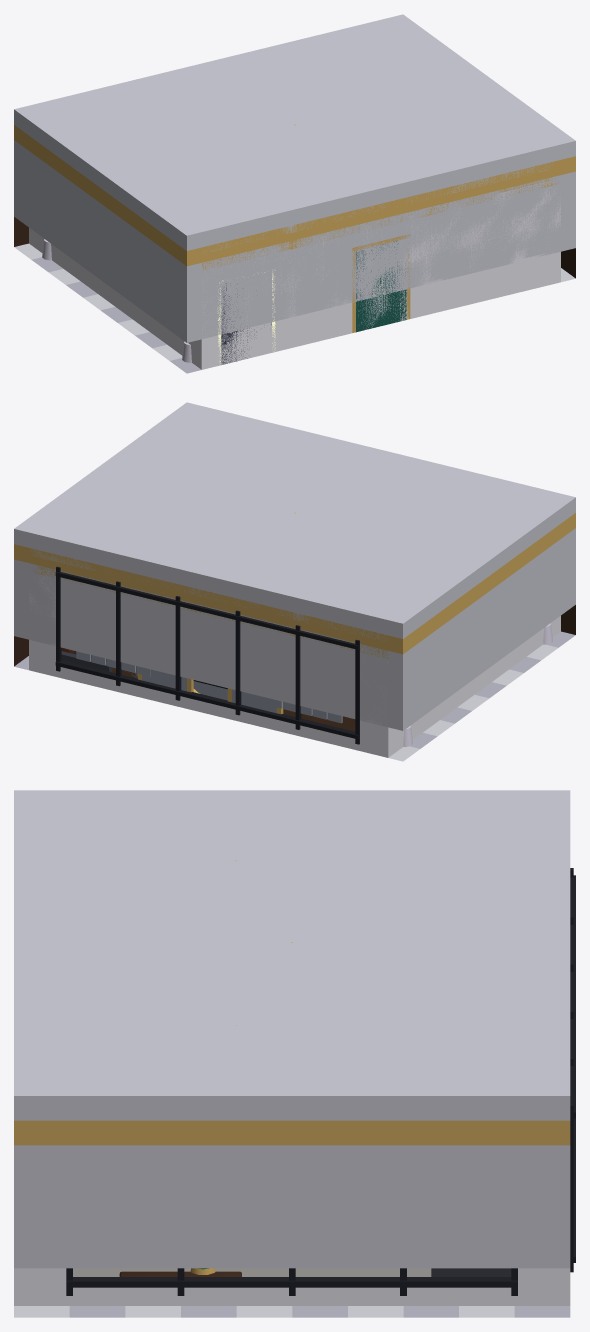
Rendered from interiors.glb.
3 views of the same model, one above another, from view 1: azimuth 30°, elevation 25°; view 2: azimuth 150°, elevation 25°; view 3: azimuth 270°, elevation 25° (orthographic). The views are drawn at different scales.
Visible parts, largest first — view 1: room_hotel_lobby, room_flat_penthouse, room_shop_bank; view 2: room_hotel_lobby, room_flat_penthouse, room_shop_bank; view 3: room_hotel_lobby, room_flat_penthouse, room_flat_loft.
Boxes of the visible parts, <box> form: room_hotel_lobby: <box>14,14,575,373</box>; room_flat_penthouse: <box>29,167,560,369</box>; room_shop_bank: <box>201,157,560,333</box>; room_hotel_lobby: <box>14,402,575,761</box>; room_flat_penthouse: <box>29,551,560,757</box>; room_shop_bank: <box>29,539,388,723</box>; room_hotel_lobby: <box>14,790,570,1317</box>; room_flat_penthouse: <box>14,868,575,1305</box>; room_flat_loft: <box>73,1268,431,1276</box>.
Size of the model in its own units: 13 by 4.42 by 10.1.
